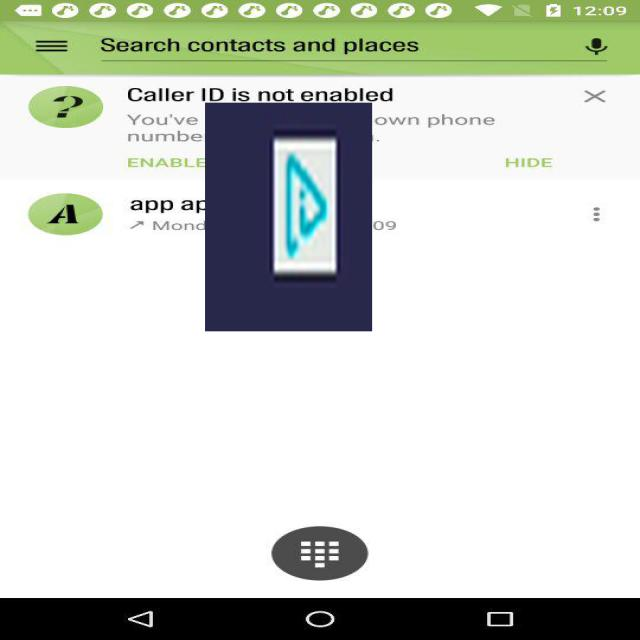sneaking: (205, 103, 372, 331)
